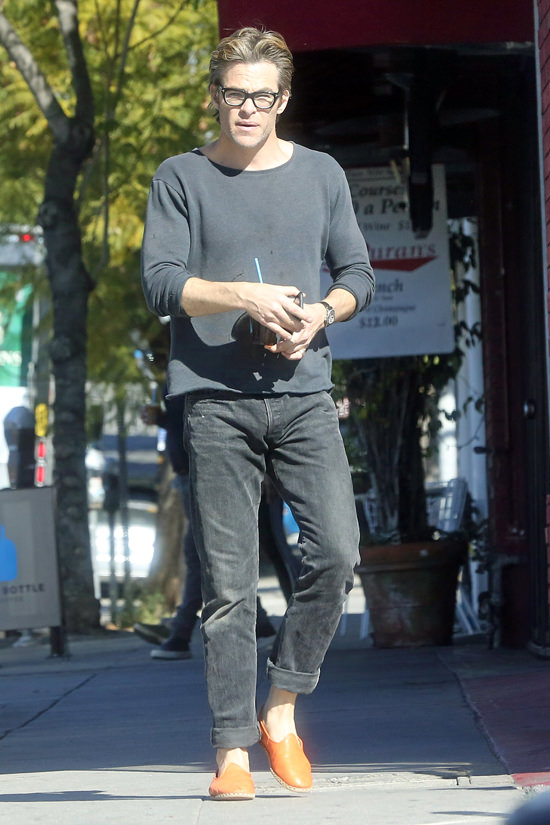Person: (138, 26, 376, 799)
